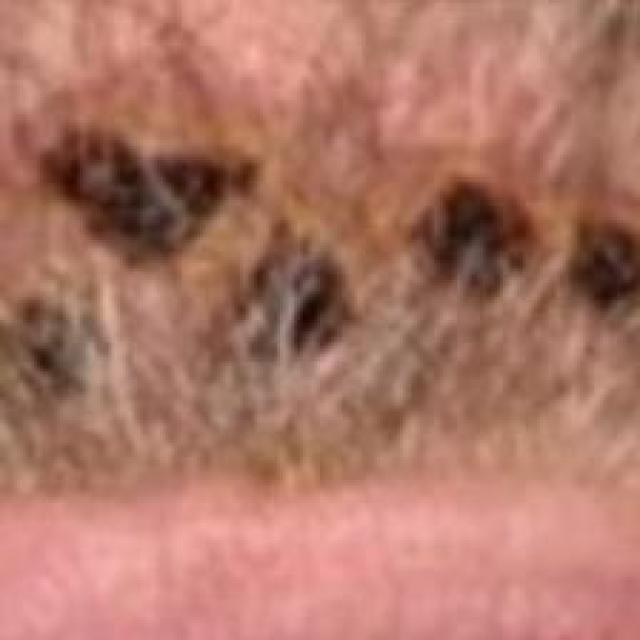monkeypox: (0, 19, 632, 614)
